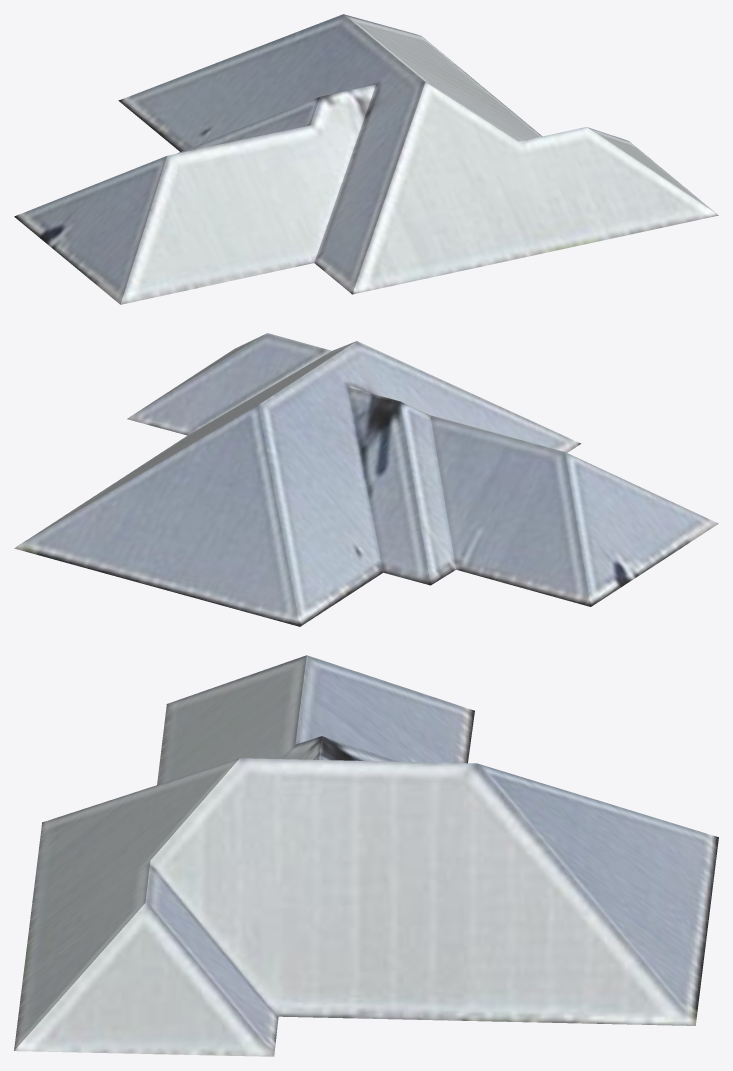
File: CG10_500_048074_0018_roof.obj
3 renders of one model, top to bottom at view 1: azimuth 30°, elevation 25°; view 2: azimuth 150°, elevation 25°; view 3: azimuth 270°, elevation 25°, orthographic. The views are drawn at different scales.
Visible parts, largest first — view 1: CG10_500_048074_0018_roof; view 2: CG10_500_048074_0018_roof; view 3: CG10_500_048074_0018_roof.
Part boxes in pixels (x1,y1,x2,y2): CG10_500_048074_0018_roof: (14,14,718,304); CG10_500_048074_0018_roof: (14,333,718,626); CG10_500_048074_0018_roof: (14,655,718,1056).
Size of the model in its own units: 332 by 70 by 280.
Materials: 1 (1 with a texture image).
